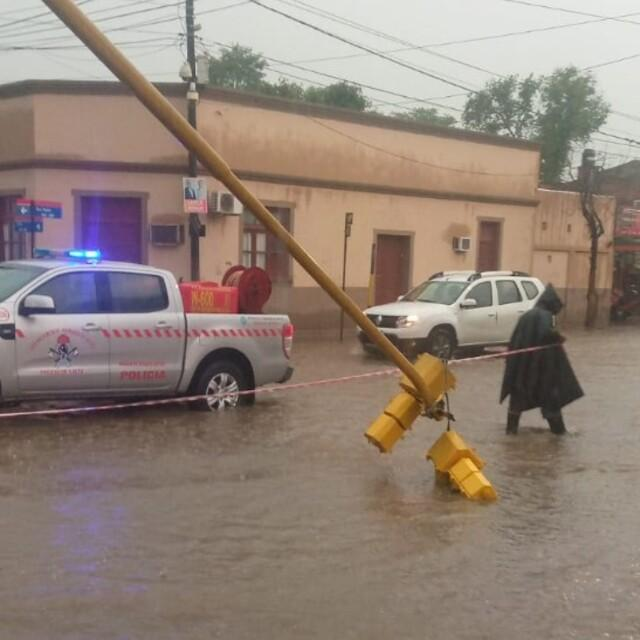Inclined Pole: (33, 0, 502, 509)
